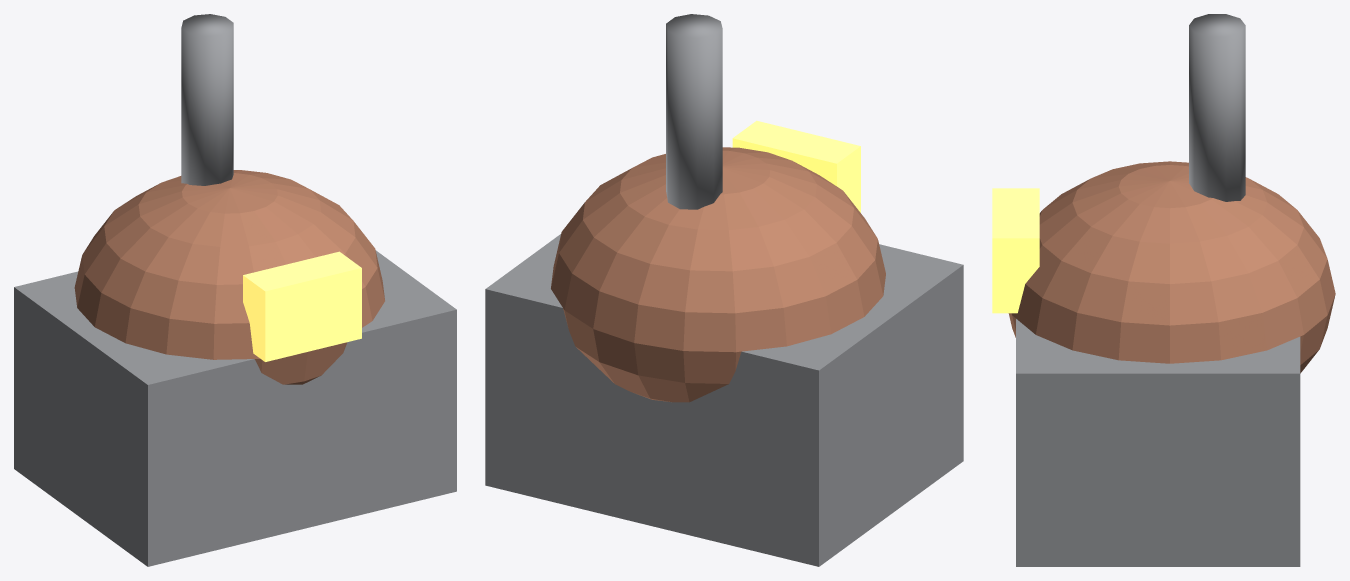
File: pizza_oven.glb
3 views of the same model, side by side, from view 1: azimuth 30°, elevation 25°; view 2: azimuth 150°, elevation 25°; view 3: azimuth 270°, elevation 25° (orthographic). The views are drawn at different scales.
Visible parts, largest first — view 1: pizza_oven; view 2: pizza_oven; view 3: pizza_oven.
Boxes of the visible parts, <box> form: pizza_oven: <box>14,14,456,566</box>; pizza_oven: <box>485,14,963,566</box>; pizza_oven: <box>992,14,1335,566</box>.
Size of the model in its own units: 1.6 by 2.15 by 1.45.
